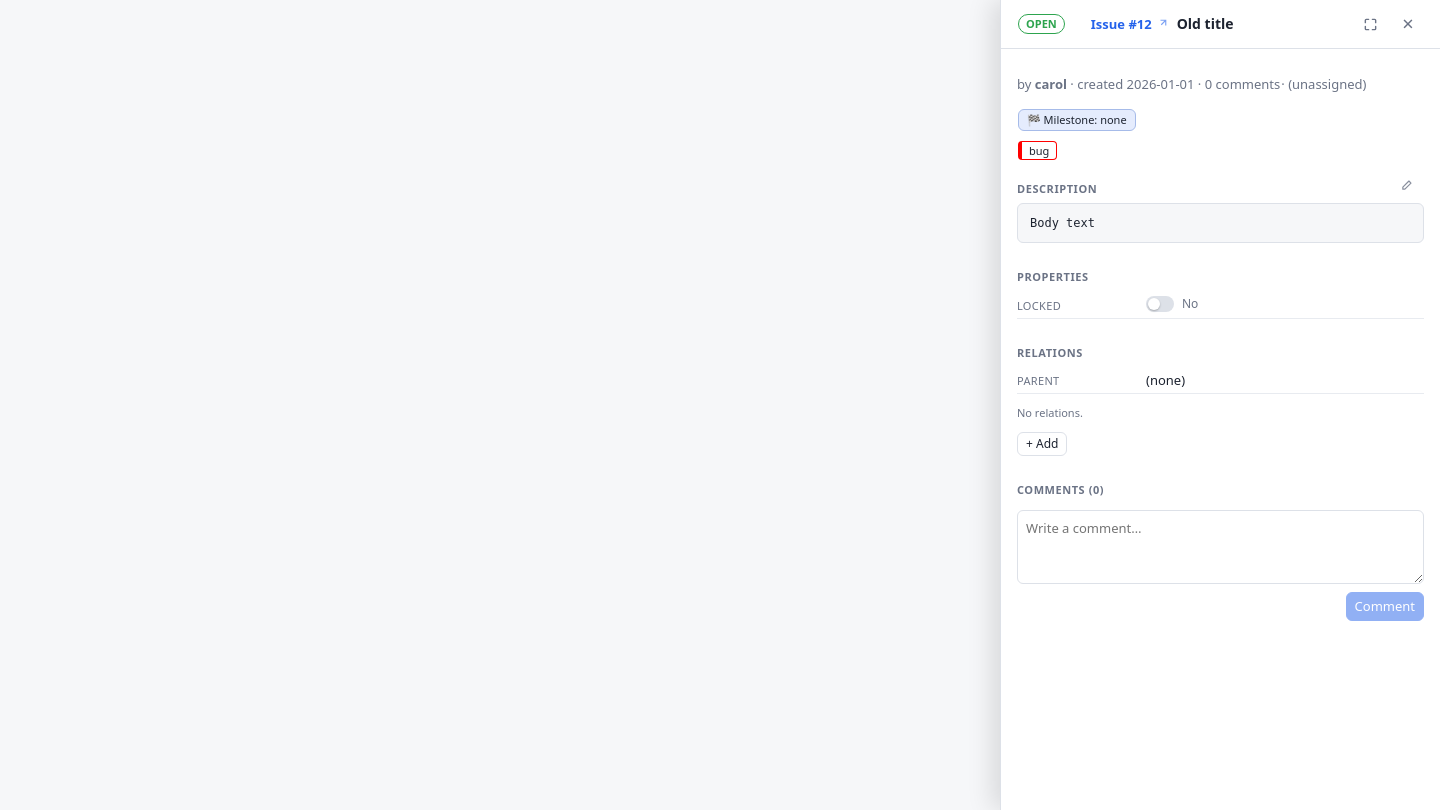
the labels popover › Escape closes the popover without a change
Click the button "bug": point(1041, 150) left=1012, top=139, right=1070, bottom=162
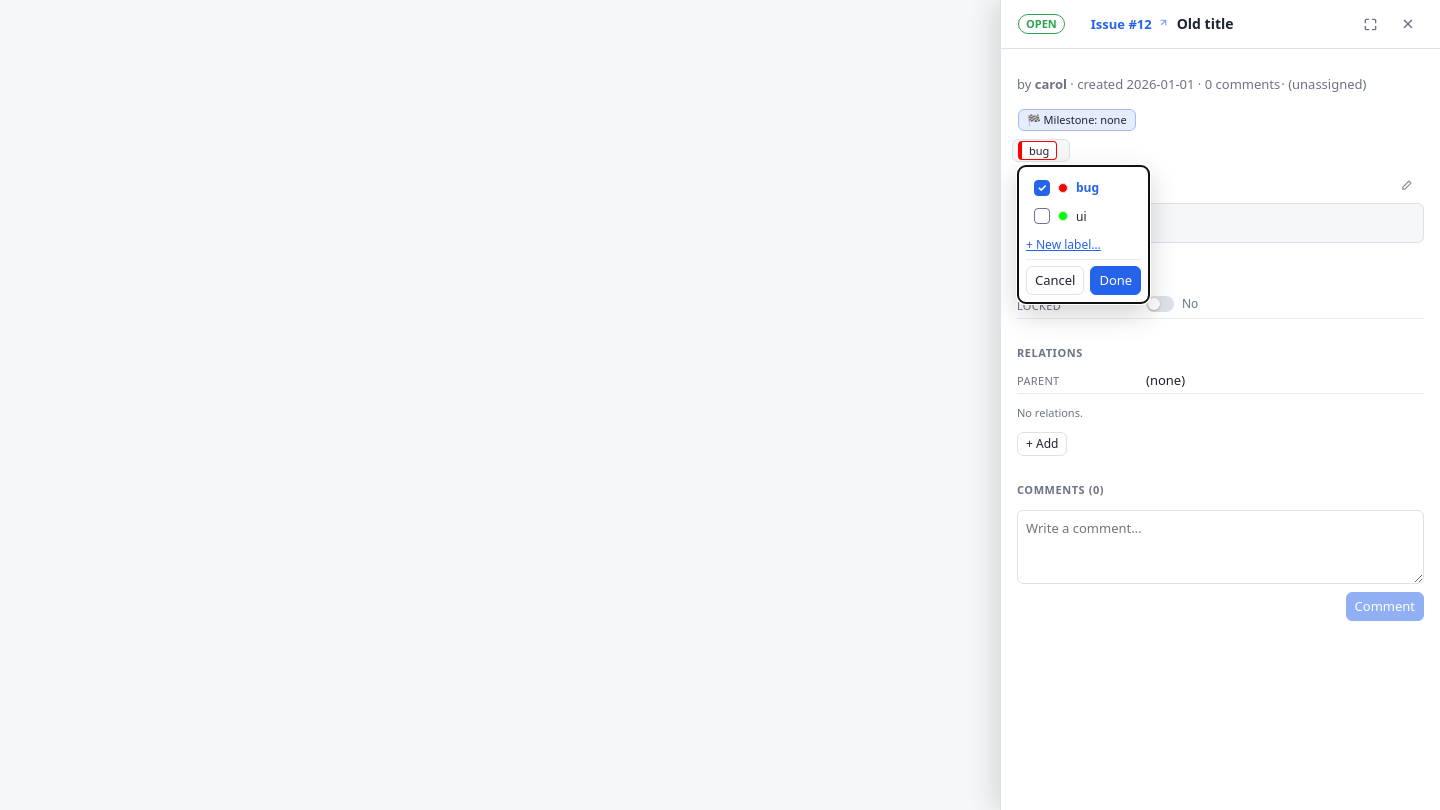
Press Escape in the dialog, box left=1017, top=165, right=1150, bottom=304
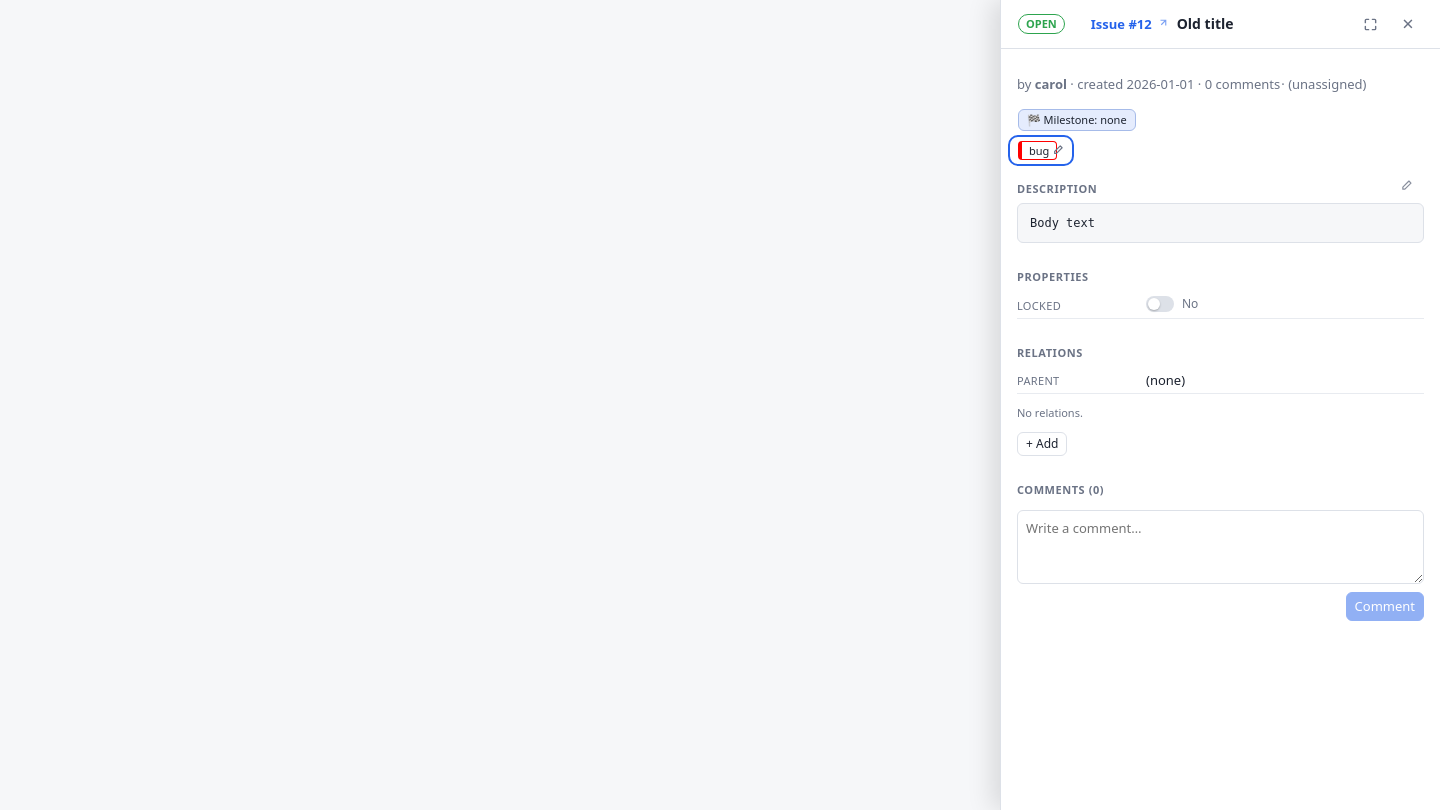
Expected: the dialog is gone
